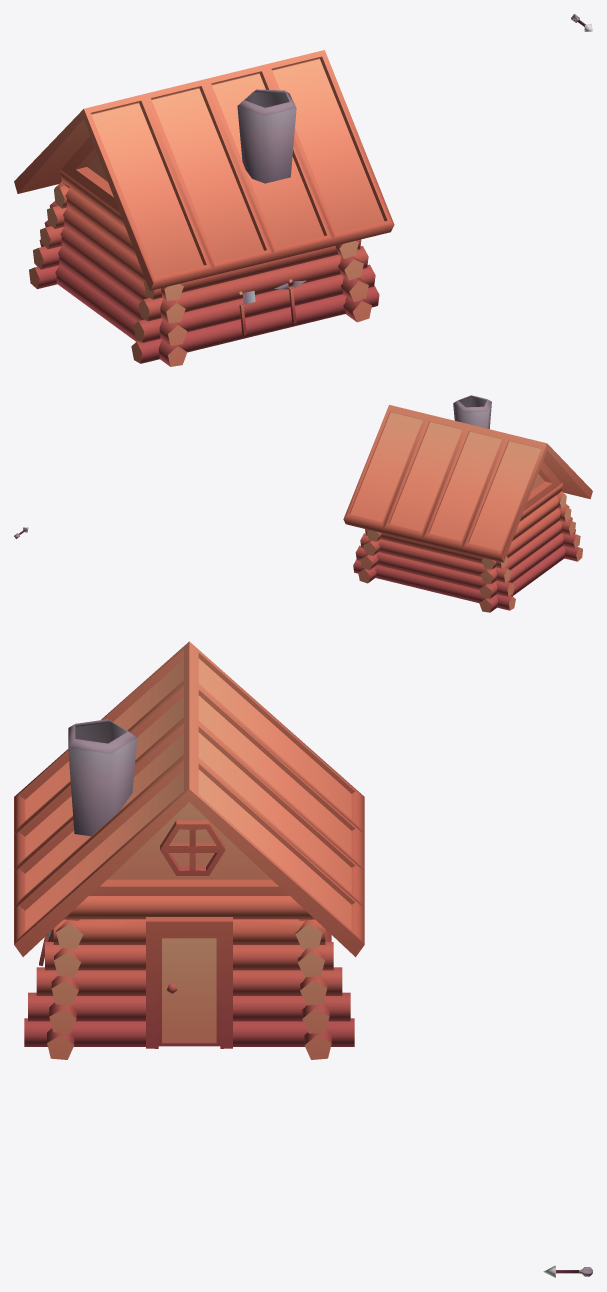
Rendered from aPintu.fbx.
3 renders of one model, top to bottom at view 1: azimuth 30°, elevation 25°; view 2: azimuth 150°, elevation 25°; view 3: azimuth 270°, elevation 25°, orthographic. The views are drawn at different scales.
Parts seen in each view (by area): view 1: Rumah; view 2: Rumah; view 3: Rumah.
Boxes of the visible parts, x1,y1,x2,y2 form: Rumah: [14, 50, 394, 366]; Rumah: [343, 395, 592, 612]; Rumah: [14, 641, 364, 1059].
Bounding box in the file's own units: 2098 × 668 × 1281.
Materials: 2 (2 with a texture image).
